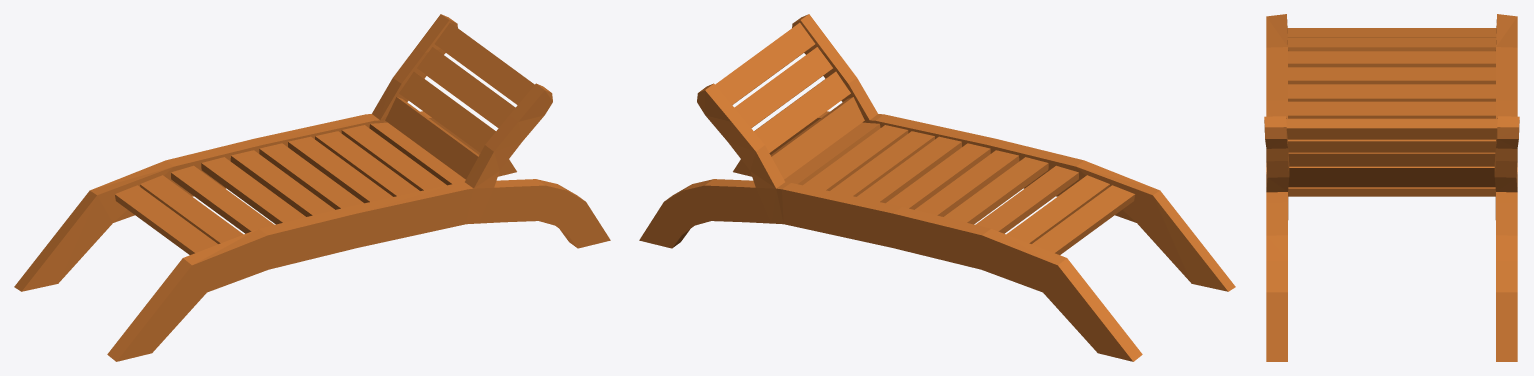
Rendered from Liegestuhl.dae.
3 views of the same model, side by side, from view 1: azimuth 30°, elevation 25°; view 2: azimuth 150°, elevation 25°; view 3: azimuth 270°, elevation 25° (orthographic). The views are drawn at different scales.
Parts seen in each view (by area): view 1: Cube; view 2: Cube; view 3: Cube.
Part boxes in pixels (x1,y1,x2,y2): Cube: (14, 14, 610, 361); Cube: (639, 14, 1235, 361); Cube: (1264, 14, 1519, 361).
Bounding box in the file's own units: 30.01 × 10.93 × 9.75.
